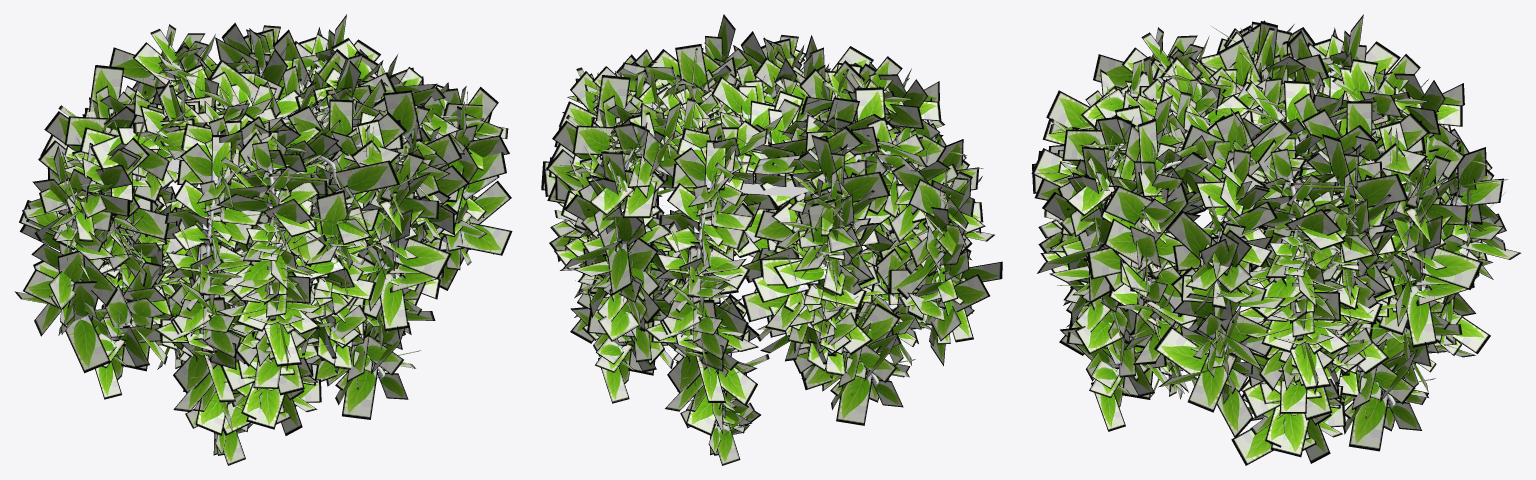
Rendered from Plant_1.fbx.
3 renders of one model, left to right at view 1: azimuth 30°, elevation 25°; view 2: azimuth 150°, elevation 25°; view 3: azimuth 270°, elevation 25°, orthographic. The views are drawn at different scales.
Parts seen in each view (by area): view 1: Leave_1, Leave_4, Leave_2, Leave_215, Branch; view 2: Leave_1, Leave_2, Leave_4, Leave_215, Plane012; view 3: Leave_1, Leave_4, Leave_2, Leave_215, Branch.
Boxes of the visible parts, x1,y1,x2,y2 form: Leave_1: (19,24,508,454); Leave_4: (20,14,511,455); Leave_2: (14,29,512,465); Leave_215: (133,55,363,172); Branch: (64,63,460,376); Leave_1: (541,14,989,454); Leave_2: (543,36,994,465); Leave_4: (548,31,1002,455); Leave_215: (656,47,856,186); Plane012: (658,128,808,196); Leave_1: (1034,20,1506,463); Leave_4: (1031,14,1507,450); Leave_2: (1032,28,1520,465); Leave_215: (1122,38,1410,157); Branch: (1098,66,1460,405).
Bounding box in the file's own units: 136 × 96.78 × 117.
Materials: 1 (1 with a texture image).
